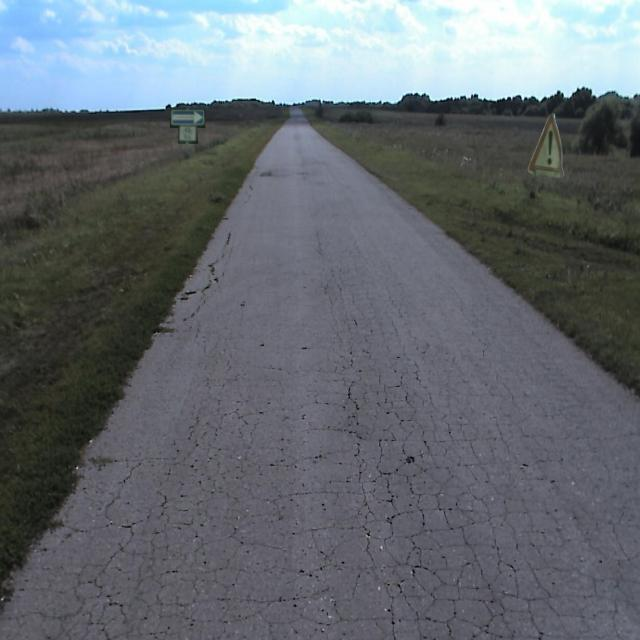road: (0, 114, 639, 639)
